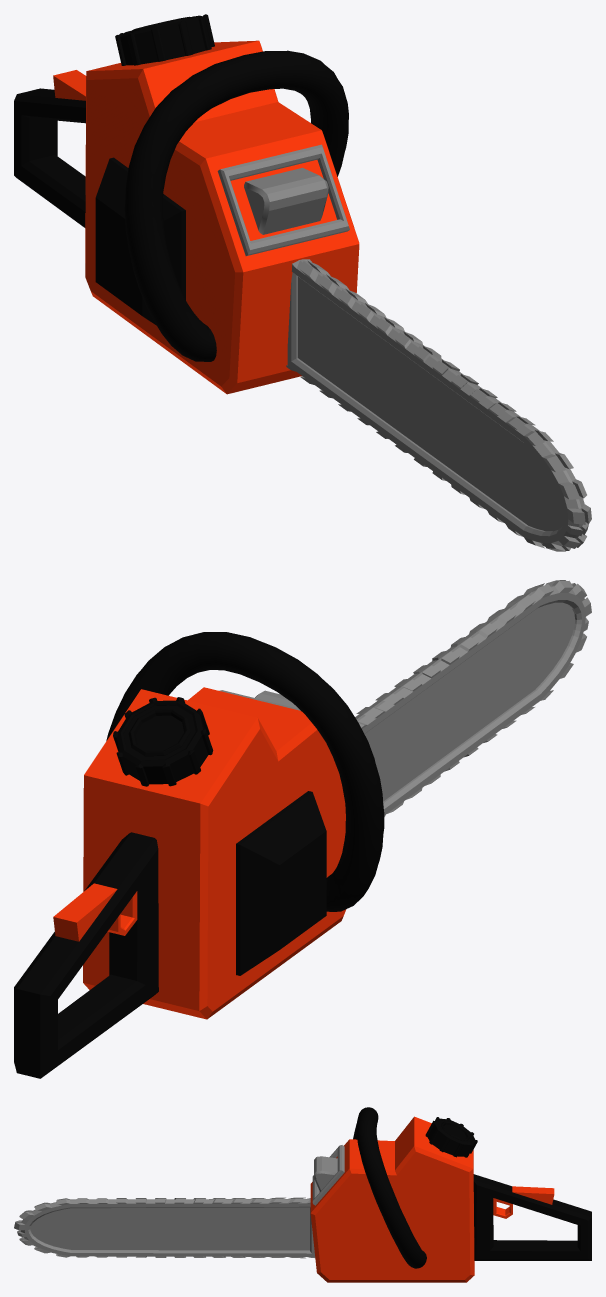
File: ChainSaw.fbx
3 views of the same model, one above another, from view 1: azimuth 30°, elevation 25°; view 2: azimuth 150°, elevation 25°; view 3: azimuth 270°, elevation 25° (orthographic). The views are drawn at different scales.
Visible parts, largest first — view 1: Cylinder; view 2: Cylinder; view 3: Cylinder.
Part boxes in pixels (<box>): Cylinder: <box>14,14,591,551</box>; Cylinder: <box>14,580,591,1078</box>; Cylinder: <box>14,1107,591,1282</box>.
Bounding box in the file's own units: 58 × 66.75 × 228.
